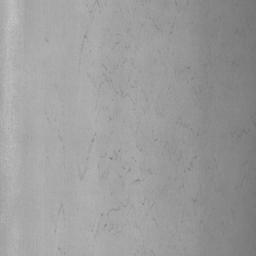Silk spot: (101, 202, 129, 216), (99, 64, 111, 88), (100, 149, 121, 160), (81, 30, 88, 52)
